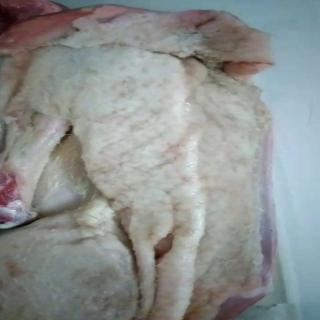Ayam: (1, 1, 279, 320)
